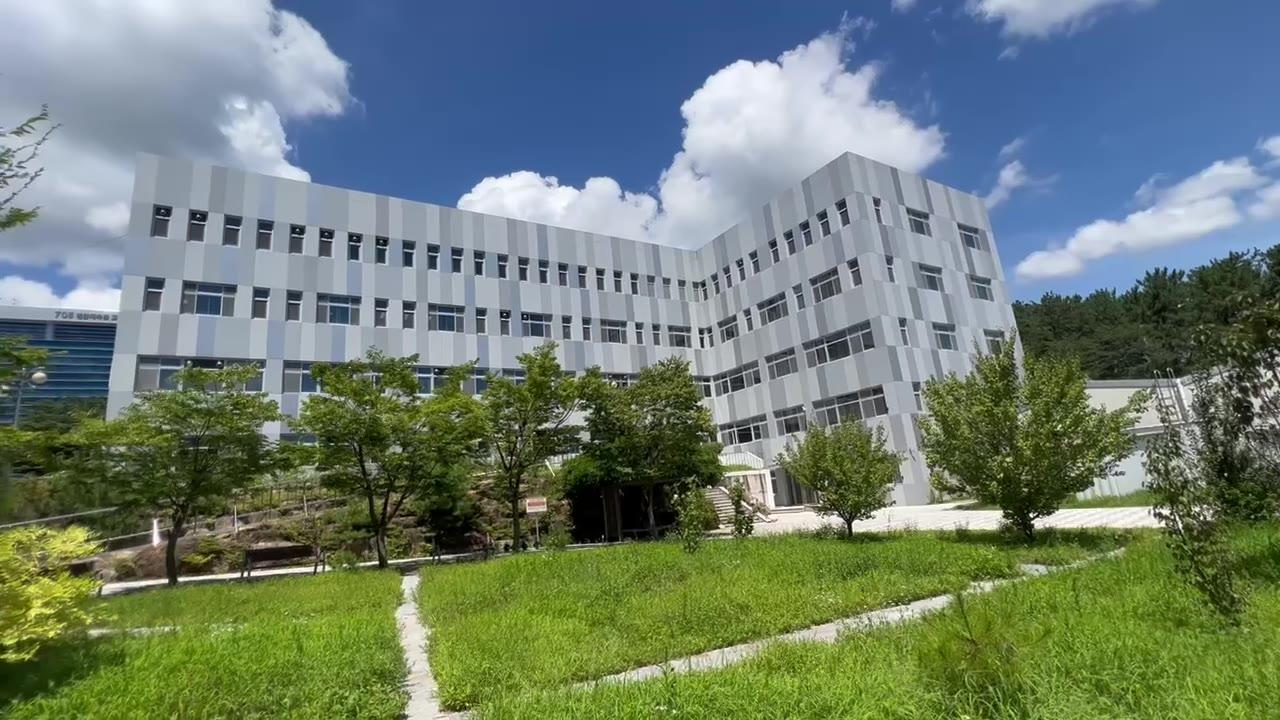building: (116, 78, 997, 396)
